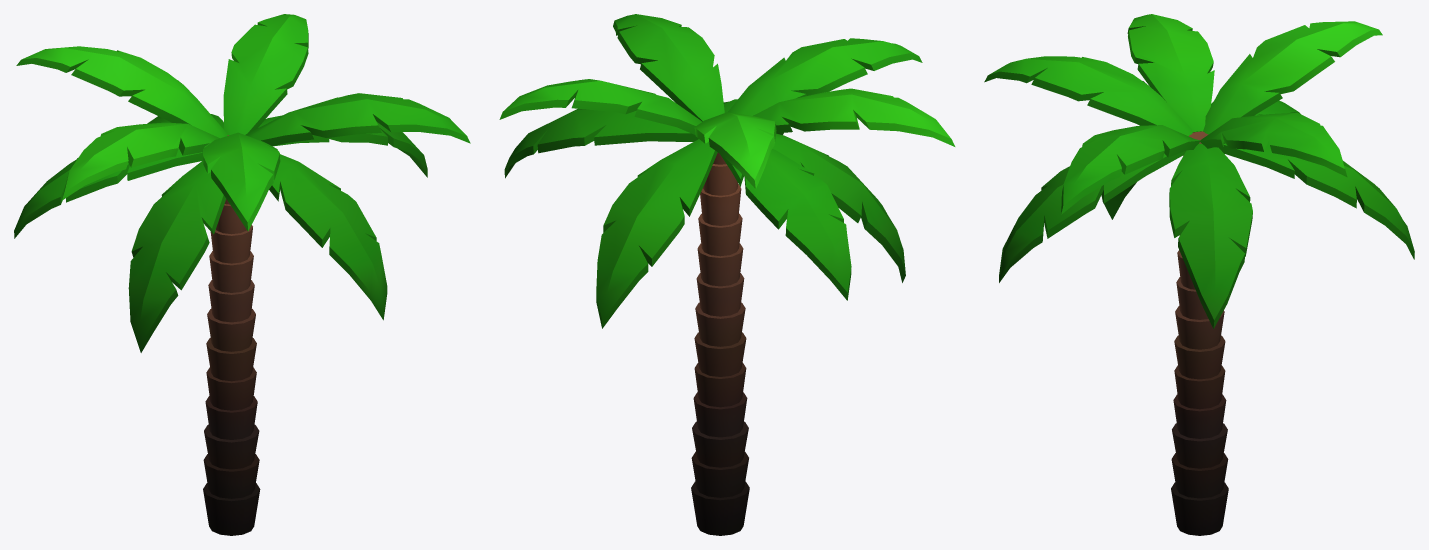
Rendered from Tree10.glb.
The picture shows the model from 3 angles, left to right: view 1: azimuth 30°, elevation 25°; view 2: azimuth 150°, elevation 25°; view 3: azimuth 270°, elevation 25°; orthographic projection. The views are drawn at different scales.
Visible parts, largest first — view 1: Tree.004; view 2: Tree.004; view 3: Tree.004.
Part boxes in pixels (<box>): Tree.004: <box>14,14,470,535</box>; Tree.004: <box>499,14,955,535</box>; Tree.004: <box>984,14,1414,535</box>.
Bounding box in the file's own units: 6.12 × 6.54 × 5.6.
Materials: 2 (2 with a texture image).
